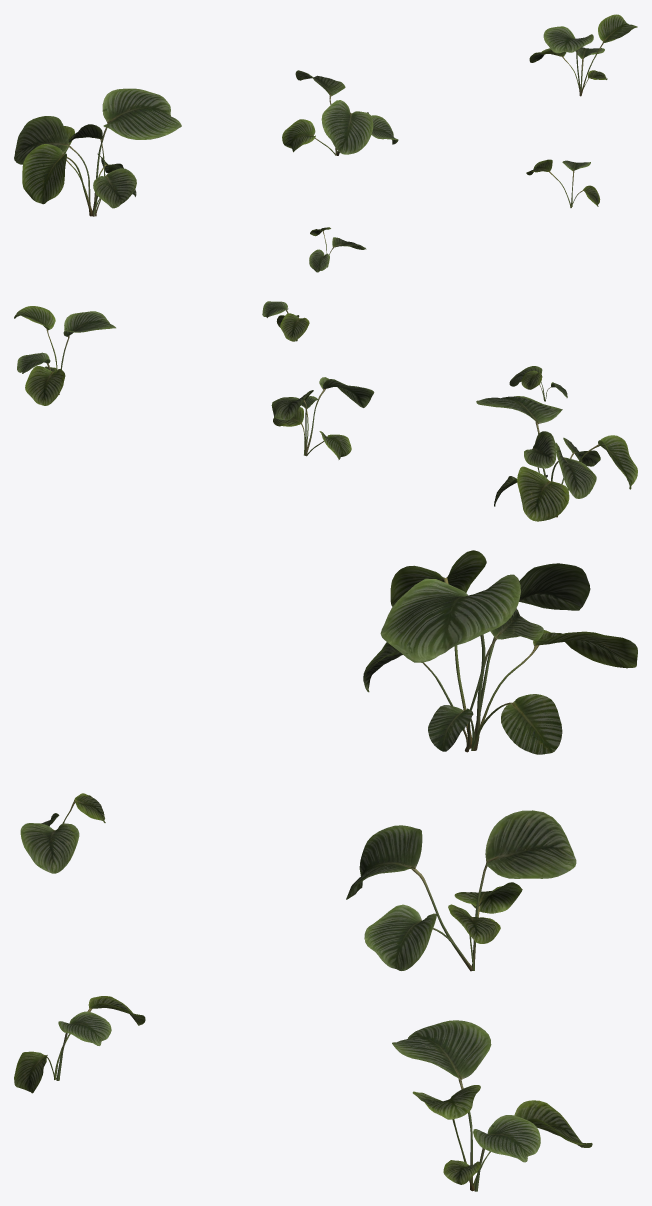
File: plant.glb
3 views of the same model, one above another, from view 1: azimuth 30°, elevation 25°; view 2: azimuth 150°, elevation 25°; view 3: azimuth 270°, elevation 25° (orthographic). The views are drawn at different scales.
Parts seen in each view (by area): view 1: calathea_orbifolia_01_a; view 2: calathea_orbifolia_01_a; view 3: calathea_orbifolia_01_a.
Part boxes in pixels (x1=…): calathea_orbifolia_01_a: x1=14, y1=14, x2=637, y2=272; calathea_orbifolia_01_a: x1=14, y1=301, x2=637, y2=521; calathea_orbifolia_01_a: x1=14, y1=550, x2=637, y2=1191.
Bounding box in the file's own units: 2.49 × 0.4243 × 1.19.
1 material, 1 textured.
